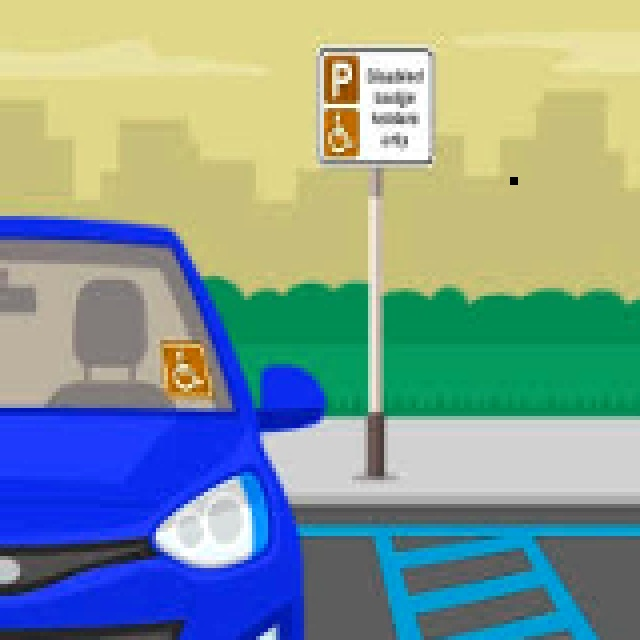ISA: (166, 346, 201, 386), (321, 107, 352, 150)
